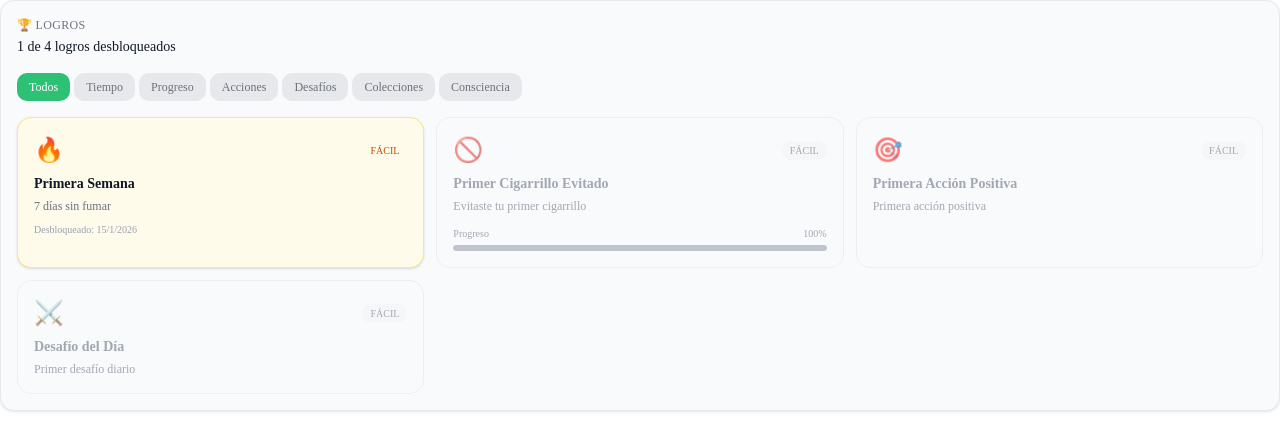
Scenario: AchievementGallery › category filters › shows all achievements when 'Todos' tab is clicked
# First filter to a specific category
Click the tab "Tiempo".
click(105, 87)  # box [74,73,135,101]
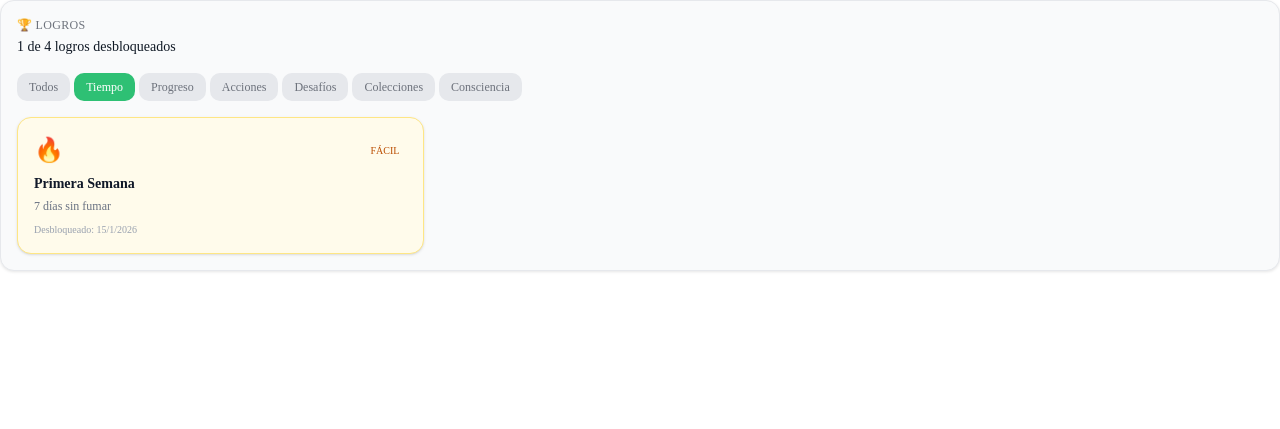
Expected: the element with test id "achievement-card-P001" is gone
Click the tab "Todos".
click(44, 87)  # box [17,73,70,101]
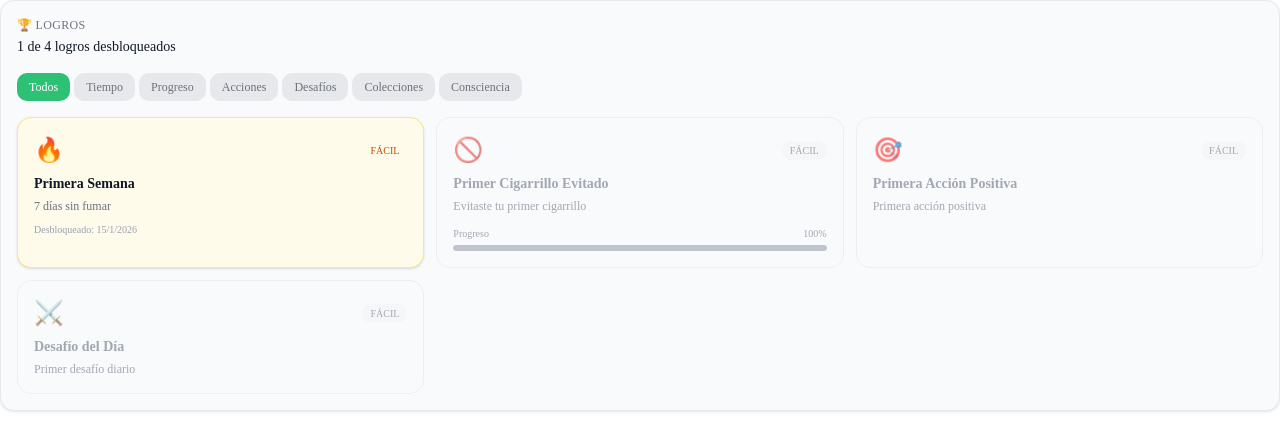
Expected: the element with test id "achievement-card-P001" is shown, [436,117,844,268]
Expected: the element with test id "achievement-card-A001" is shown, [856,117,1263,268]
Expected: the element with test id "achievement-card-D001" is shown, [17,280,424,394]
